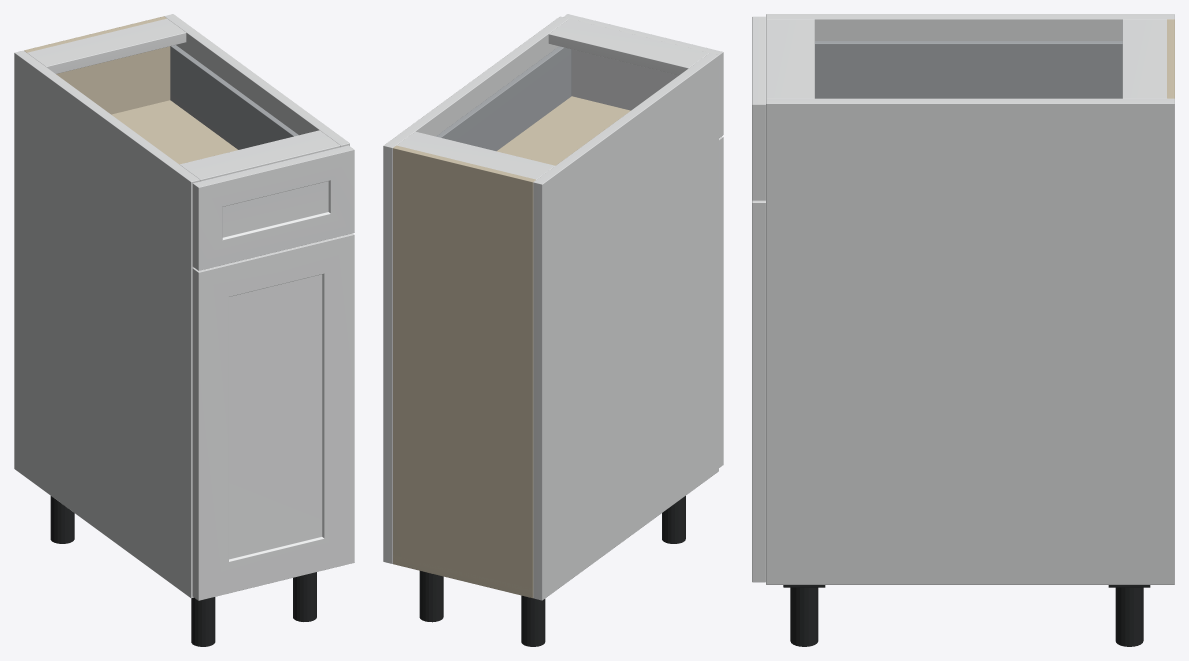
File: PLY-WSS-B12.glb
The picture shows the model from 3 angles, left to right: view 1: azimuth 30°, elevation 25°; view 2: azimuth 150°, elevation 25°; view 3: azimuth 270°, elevation 25°; orthographic projection. The views are drawn at different scales.
Visible parts, largest first — view 1: Carcass left, Shaker door, Drawer front, Metal drawer side.001, Drawer back, Carcass right, Top support rail, Drawer bottom, Top support rail.001, Adjustable foot.001, Adjustable foot.003, Adjustable foot (+1 smaller); view 2: Carcass left, Carcass back, Carcass right, Metal drawer side.001, Drawer front, Drawer bottom, Top support rail.001, Top support rail, Shaker door, Adjustable foot, Adjustable foot.002, Carcass bottom (+1 smaller); view 3: Carcass right, Metal drawer side, Carcass left, Shaker door, Top support rail.001, Top support rail, Drawer front, Adjustable foot.002, Adjustable foot.003, Carcass back.
Part boxes in pixels (x1,y1,x2,y2): Carcass left: (14,50,200,598); Shaker door: (192,233,354,600); Drawer front: (192,145,354,270); Metal drawer side.001: (170,45,298,149); Drawer back: (56,46,170,114); Carcass right: (164,14,349,146); Top support rail: (27,18,186,73); Drawer bottom: (111,100,237,164); Top support rail.001: (179,130,340,181); Adjustable foot.001: (191,597,215,646); Adjustable foot.003: (293,572,316,621); Adjustable foot: (50,496,74,543); Carcass left: (533,53,718,600); Carcass back: (393,145,535,597); Carcass right: (383,16,568,563); Metal drawer side.001: (436,46,571,151); Drawer front: (563,14,723,137); Drawer bottom: (497,96,630,165); Top support rail.001: (548,18,709,75); Top support rail: (396,131,554,179); Shaker door: (719,136,723,467); Adjustable foot: (521,595,545,646); Adjustable foot.002: (419,571,443,622); Carcass bottom: (393,555,532,597); Carcass right: (766,98,1174,584); Metal drawer side: (815,41,1122,98); Carcass left: (766,14,1174,40); Shaker door: (752,200,765,582); Top support rail.001: (766,19,814,98); Top support rail: (1122,19,1166,98); Drawer front: (752,16,765,200); Adjustable foot.002: (1115,587,1143,646); Adjustable foot.003: (790,587,818,646); Carcass back: (1167,19,1174,98).
Size of the model in its own units: 0.3048 by 0.8763 by 0.6064.
